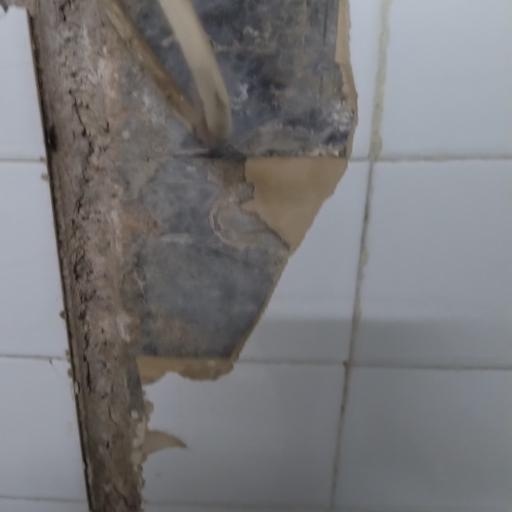spalling: (26, 3, 341, 512)
